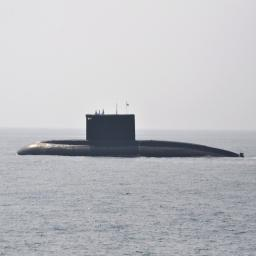submarine: (19, 110, 256, 157)
